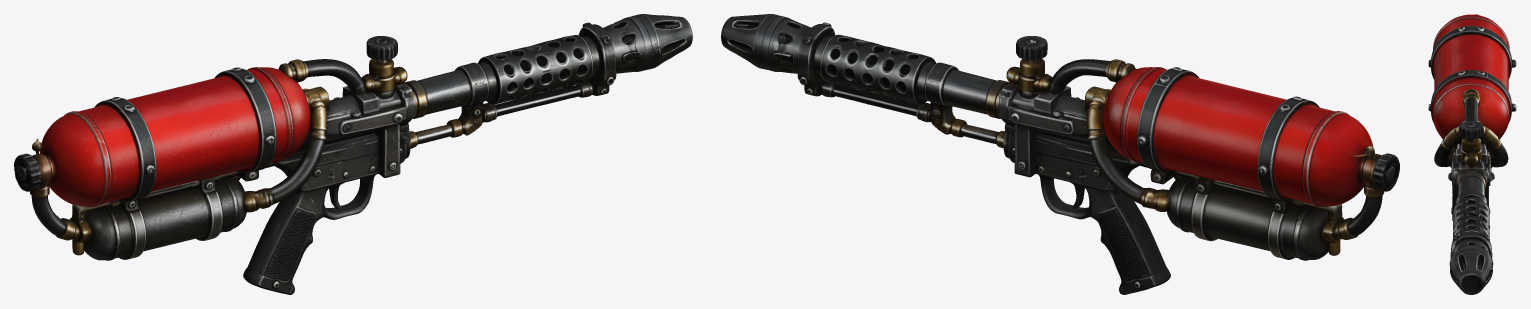
Rendered from flame_hd_backup.glb.
3 renders of one model, left to right at view 1: azimuth 30°, elevation 25°; view 2: azimuth 150°, elevation 25°; view 3: azimuth 270°, elevation 25°, orthographic. The views are drawn at different scales.
Parts seen in each view (by area): view 1: tripo_node_bb5e157d-a985-4461-beb4-c4d5fb15fd65; view 2: tripo_node_bb5e157d-a985-4461-beb4-c4d5fb15fd65; view 3: tripo_node_bb5e157d-a985-4461-beb4-c4d5fb15fd65.
Boxes of the visible parts, x1=… form: tripo_node_bb5e157d-a985-4461-beb4-c4d5fb15fd65: x1=14, y1=14, x2=692, y2=294; tripo_node_bb5e157d-a985-4461-beb4-c4d5fb15fd65: x1=721, y1=14, x2=1399, y2=294; tripo_node_bb5e157d-a985-4461-beb4-c4d5fb15fd65: x1=1428, y1=14, x2=1516, y2=294.
Size of the model in its own units: 1 by 0.3311 by 0.1528.
Materials: 1 (1 with a texture image).
